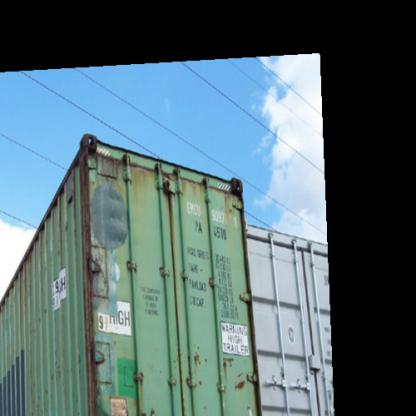Damage: (76, 141, 114, 410)
